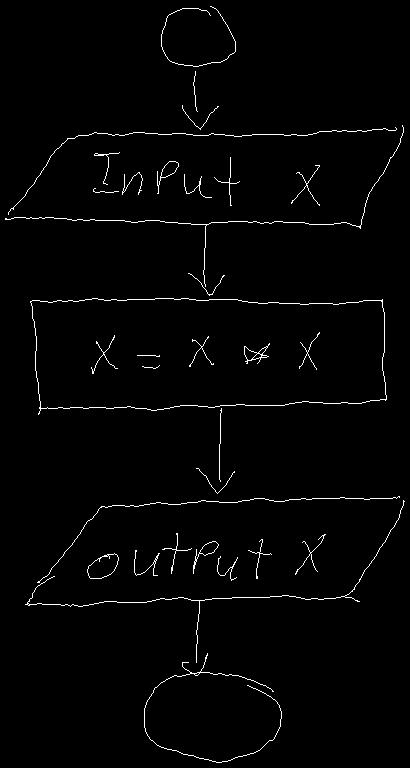arrow: (196, 408, 234, 493), (188, 224, 224, 295), (182, 71, 218, 129), (182, 600, 207, 675)
connection: (144, 672, 281, 762), (161, 6, 235, 66)
data: (25, 496, 404, 606), (5, 125, 403, 228)
process: (30, 298, 386, 414)
text: (93, 152, 319, 205), (87, 533, 325, 580), (91, 332, 319, 373)
